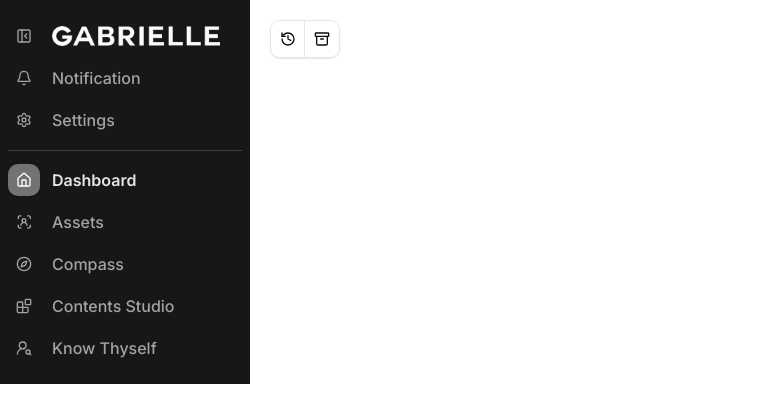
Scenario: Gnb › closes Work History and opens Setting when Settings is clicked while Work History is open
Click the button named "Work history" at (288, 39), box [271,21,305,57]
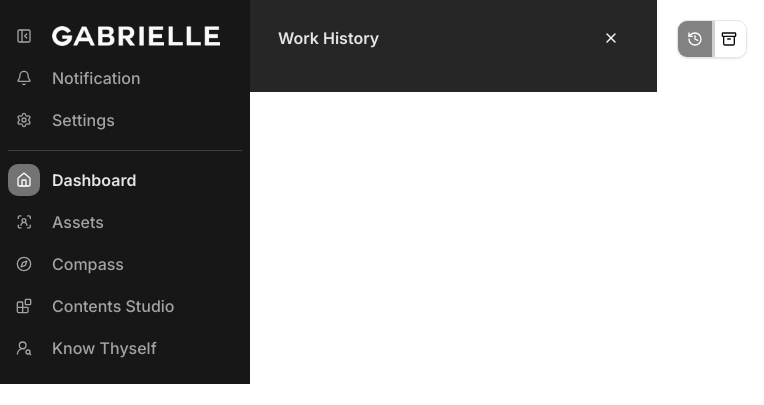
Expected: the heading "Work History" is shown, [278,26,379,50]
Click the button "Settings" at (125, 120), box [8,104,242,136]
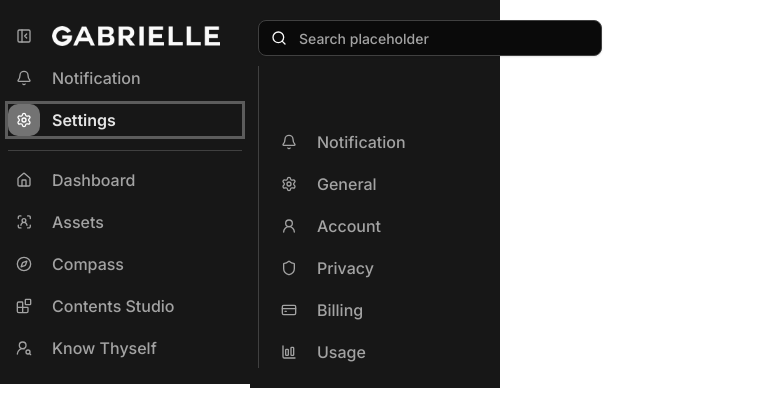
Expected: the heading "Work History" is gone
Expected: the text "Usage" is shown, [317,340,366,364]
